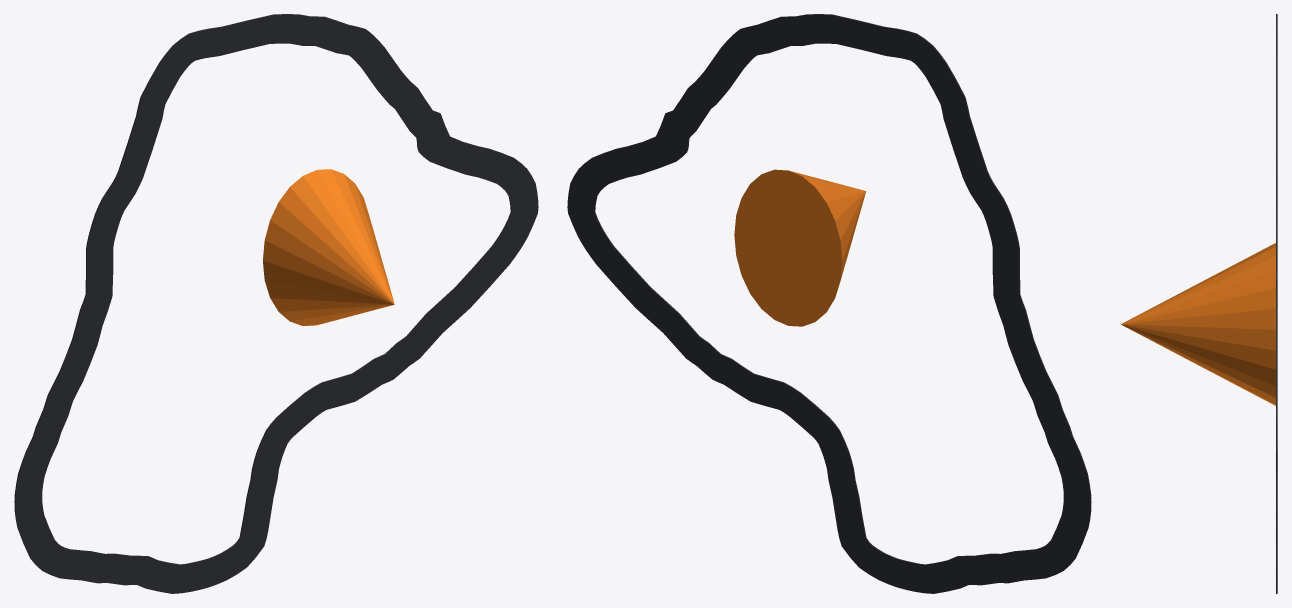
The model's file is tinker.obj.
The picture shows the model from 3 angles, left to right: view 1: azimuth 30°, elevation 25°; view 2: azimuth 150°, elevation 25°; view 3: azimuth 270°, elevation 25°; orthographic projection.
Parts seen in each view (by area): view 1: group_0_2829873, group_0_16089887; view 2: group_0_2829873, group_0_16089887; view 3: group_0_16089887, group_0_2829873.
Part boxes in pixels (left/top/right/bottom): group_0_2829873: left=14, top=14, right=538, bottom=593; group_0_16089887: left=263, top=169, right=394, bottom=325; group_0_2829873: left=567, top=14, right=1091, bottom=593; group_0_16089887: left=734, top=169, right=866, bottom=326; group_0_16089887: left=1121, top=243, right=1275, bottom=405; group_0_2829873: left=1276, top=14, right=1277, bottom=593.
Size of the model in its own units: 38.74 by 39.52 by 10.
